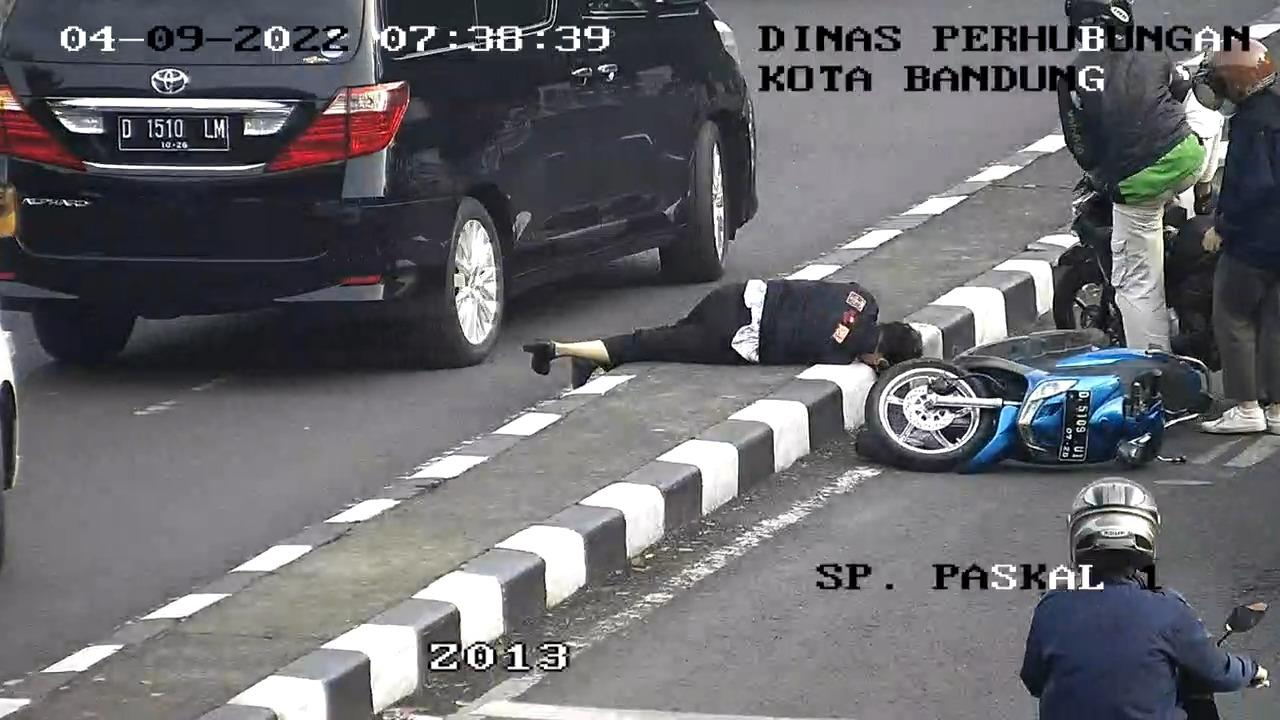accident: (509, 247, 928, 406)
